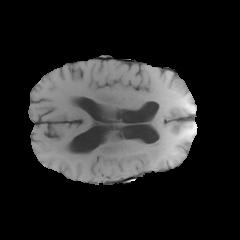glioma: (56, 106, 194, 165)
